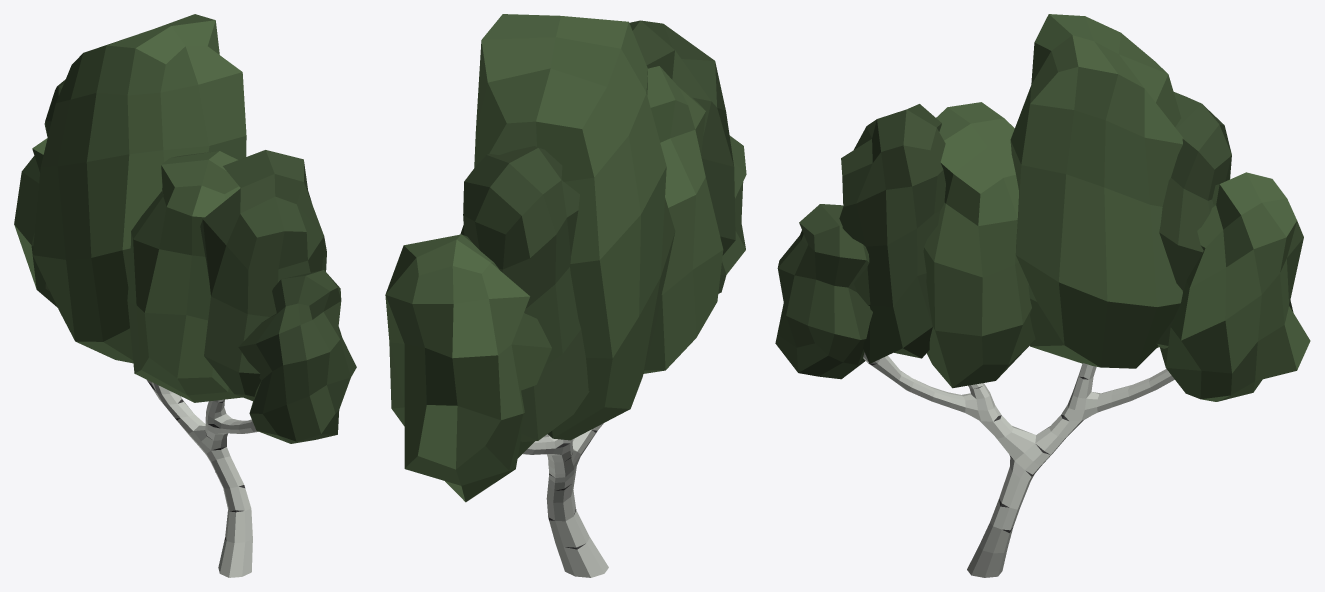
The model's file is BirchTree_4.glb.
The picture shows the model from 3 angles, left to right: view 1: azimuth 30°, elevation 25°; view 2: azimuth 150°, elevation 25°; view 3: azimuth 270°, elevation 25°; orthographic projection. The views are drawn at different scales.
Visible parts, largest first — view 1: BirchTree_4_Cube.070; view 2: BirchTree_4_Cube.070; view 3: BirchTree_4_Cube.070.
Part boxes in pixels (left/top/right/bottom): BirchTree_4_Cube.070: left=14, top=14, right=356, bottom=577; BirchTree_4_Cube.070: left=385, top=14, right=746, bottom=577; BirchTree_4_Cube.070: left=775, top=14, right=1310, bottom=577.
Size of the model in its own units: 1.15 by 3.56 by 3.29.
